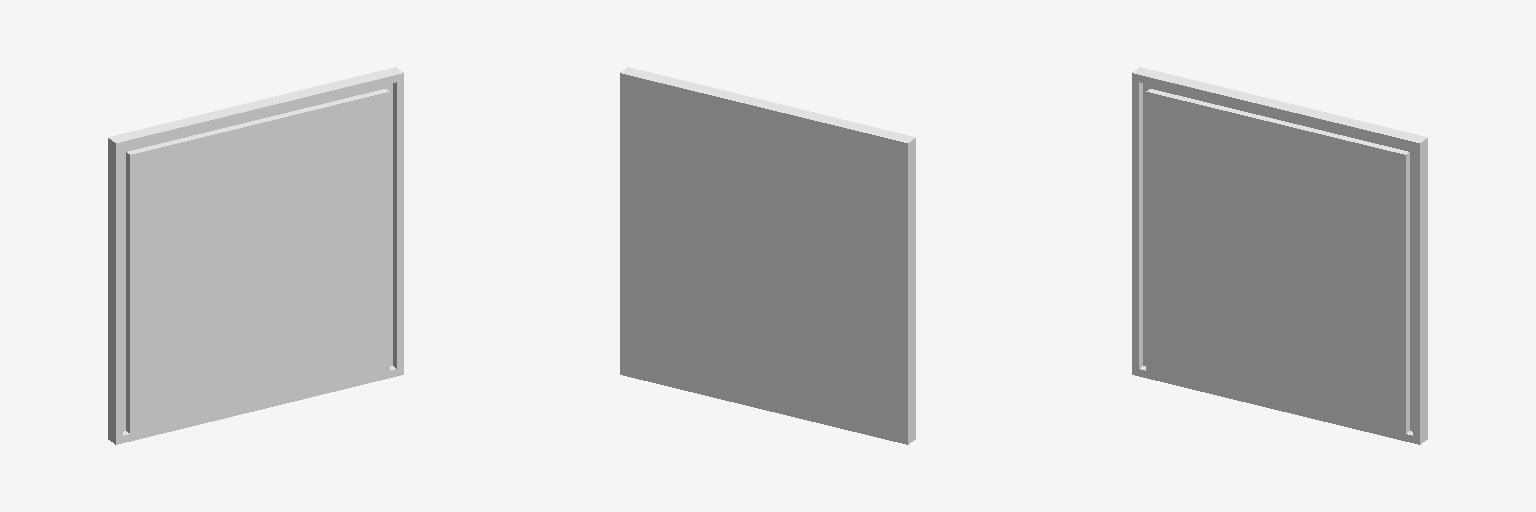
Rendered from whathaveibecome.obj.
3 renders of one model, left to right at view 1: azimuth 30°, elevation 25°; view 2: azimuth 150°, elevation 25°; view 3: azimuth 330°, elevation 25°, orthographic.
Visible parts, largest first — view 1: object 1; view 2: object 1; view 3: object 1.
Part boxes in pixels (x1,y1,x2,y2): object 1: (108, 67, 403, 444); object 1: (620, 67, 915, 444); object 1: (1132, 67, 1427, 444).
Bounding box in the file's own units: 4 × 4 × 0.2.